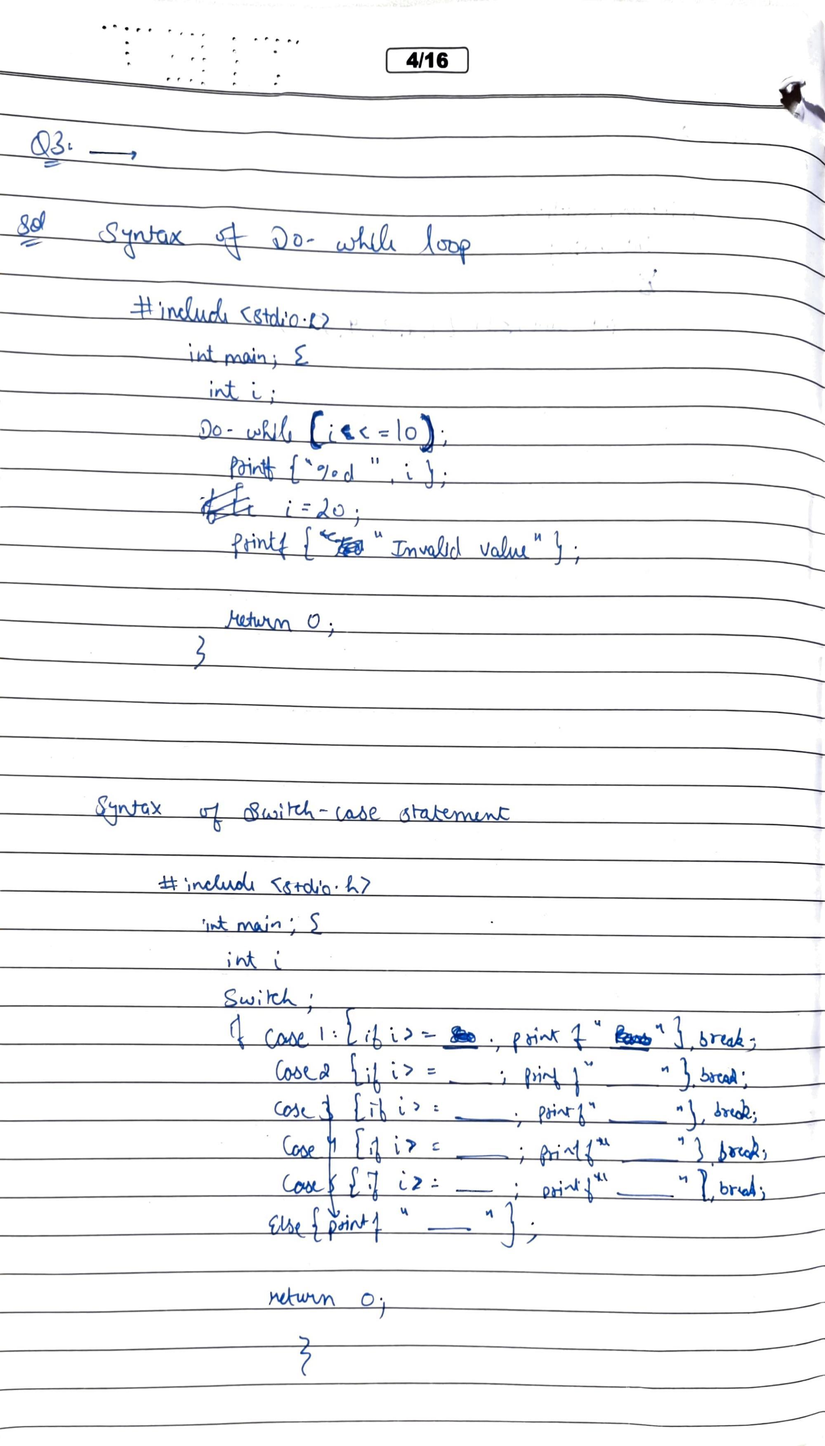cuttings: (199, 480, 259, 528), (315, 528, 369, 561), (613, 1022, 655, 1047), (448, 1023, 477, 1045)
